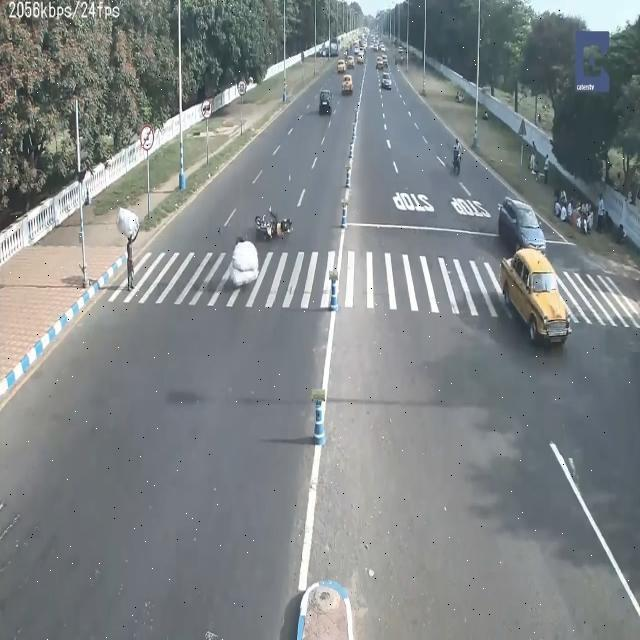accident: (256, 204, 293, 242)
